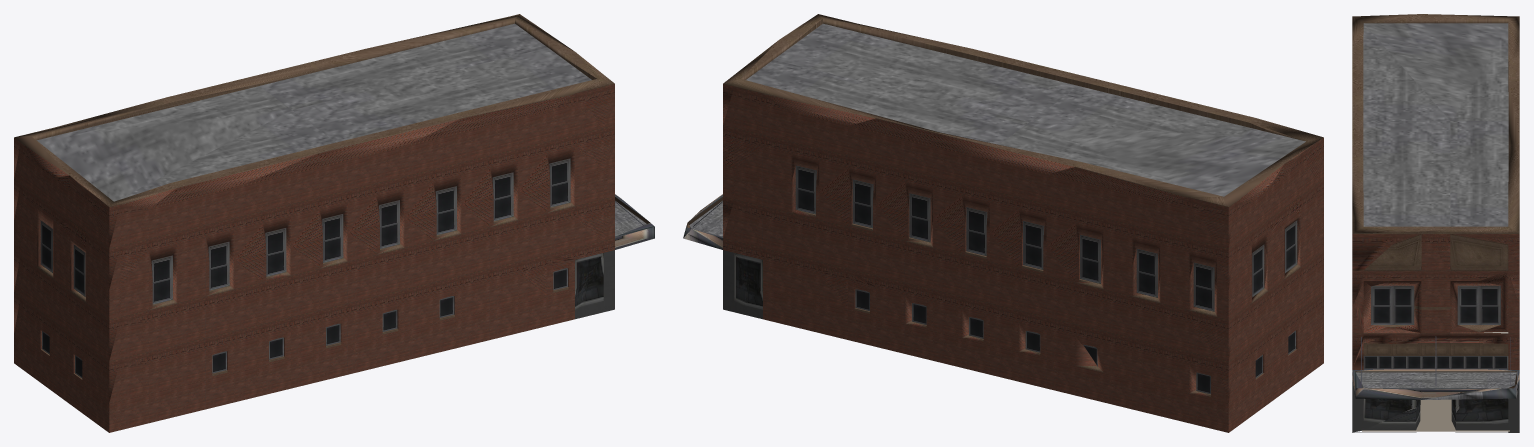
Rendered from brick-shop.zfix-v14.lod1.glb.
3 renders of one model, left to right at view 1: azimuth 30°, elevation 25°; view 2: azimuth 150°, elevation 25°; view 3: azimuth 270°, elevation 25°, orthographic. The views are drawn at different scales.
Parts seen in each view (by area): view 1: Object_4; view 2: Object_4; view 3: Object_4, Walkable floors and stairs.
Boxes of the visible parts, x1,y1,x2,y2 form: Object_4: (14,14,654,432); Object_4: (683,14,1323,432); Object_4: (1352,14,1519,432); Walkable floors and stairs: (1362,399,1509,431).
Size of the model in its own units: 24.23 by 9.61 by 7.24.
Materials: 3 (1 with a texture image).
